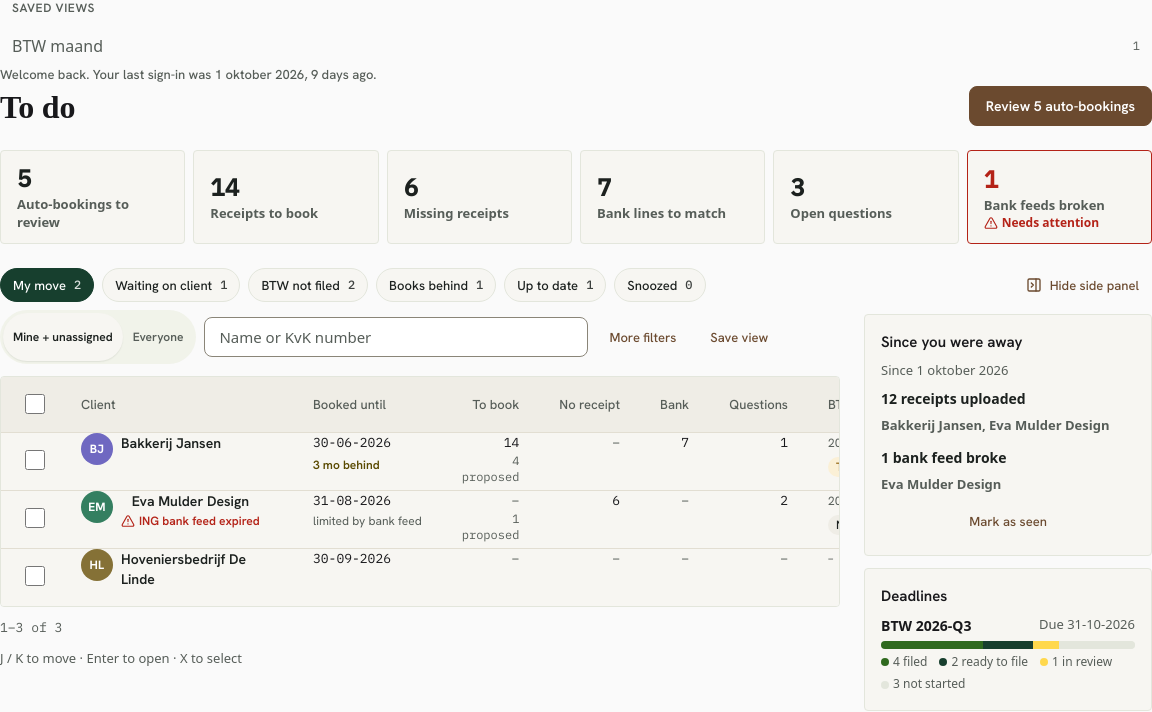
Test: bulk: Request missing receipts › previews each client with count, last chased and a reason in words, then sends
The width and height of the screenshot is (1152, 712).
Expected: the row with test id "firm-row-adm-1" is shown, [1,433,840,491]
Click the checkbox named "Select Bakkerij Jansen".
click(35, 460)  # box [25,436,45,484]
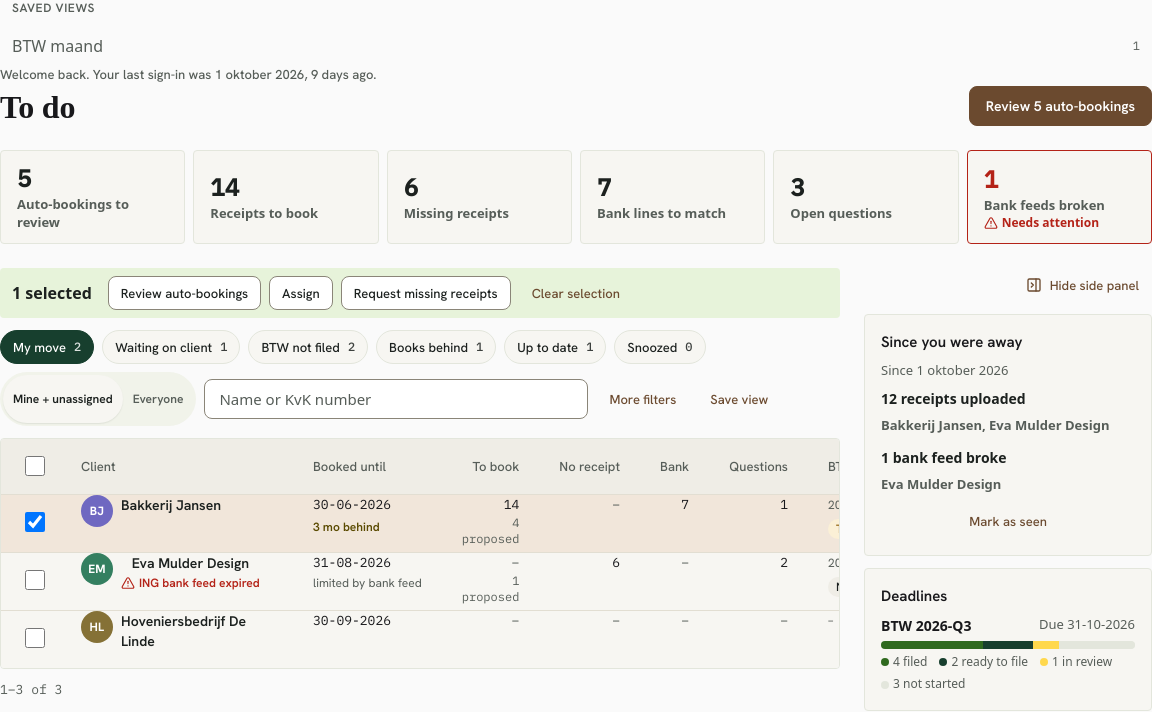
Click the checkbox named "Select Eva Mulder Design".
click(35, 580)  # box [25,556,45,604]
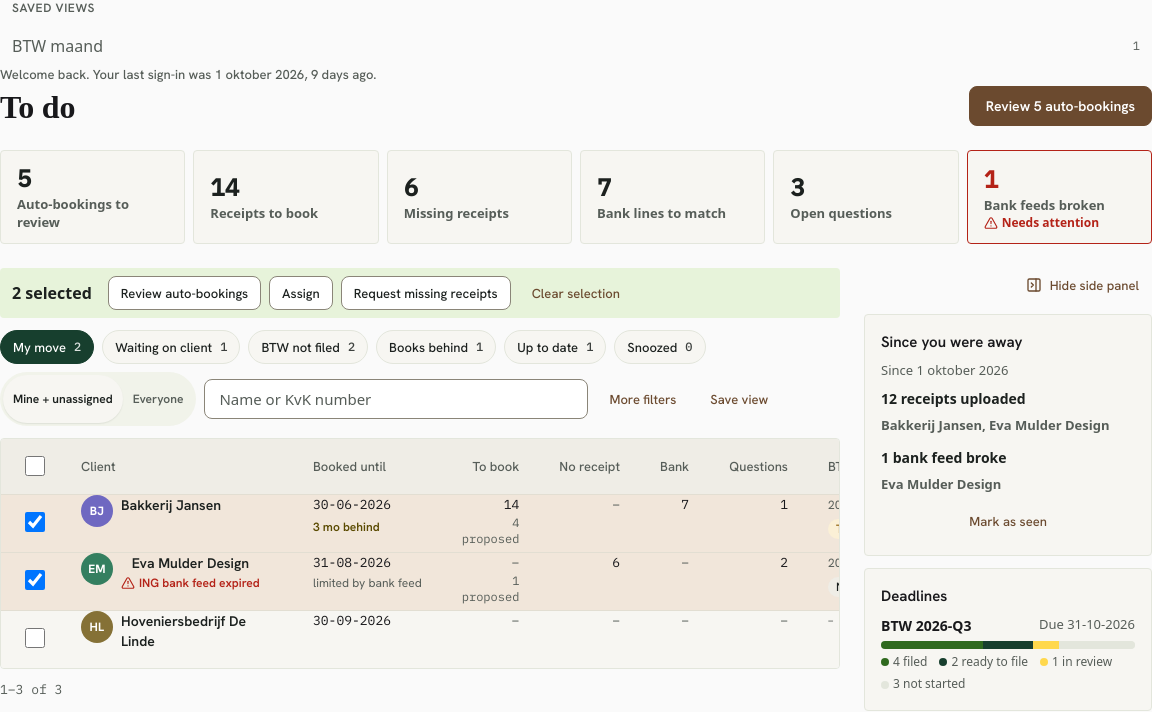
Click the checkbox named "Select Hoveniersbedrijf De Linde".
click(35, 638)  # box [25,614,45,662]
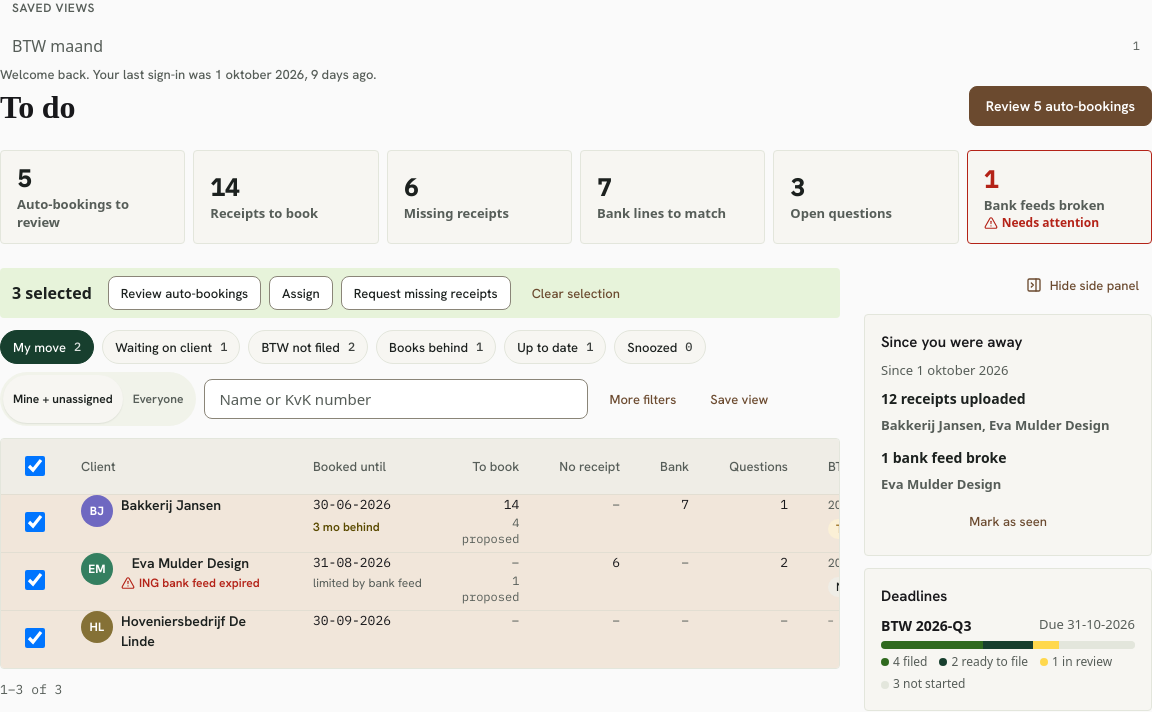
Click the button with test id "firm-bulk-chase".
click(426, 293)  # box [341,276,511,310]
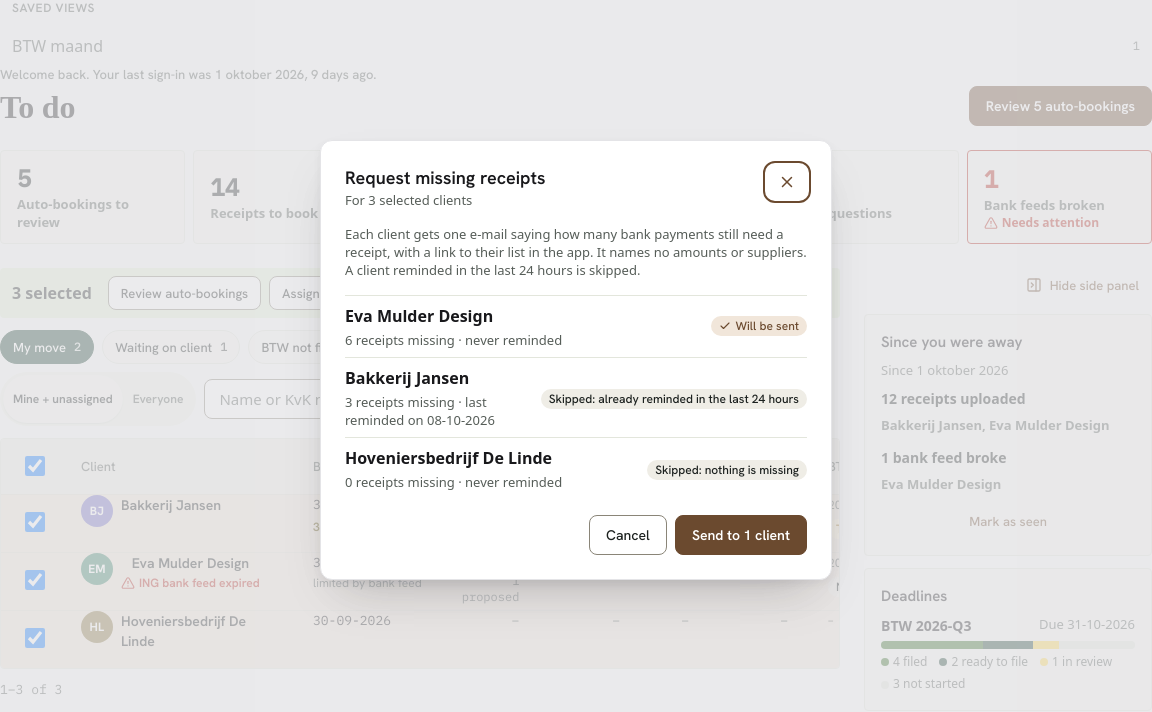
Expected: the dialog with test id "firm-chase-dialog" shows "For 3 selected clients", [345,191,472,209]
Expected: the dialog with test id "firm-chase-dialog" shows "names no amounts or suppliers", [345,225,807,279]
Expected: the list item with test id "firm-chase-item-adm-2" shows "6 receipts missing", [345,331,455,349]
Click the button with test id "firm-chase-send".
click(741, 535)  # box [675,515,807,555]
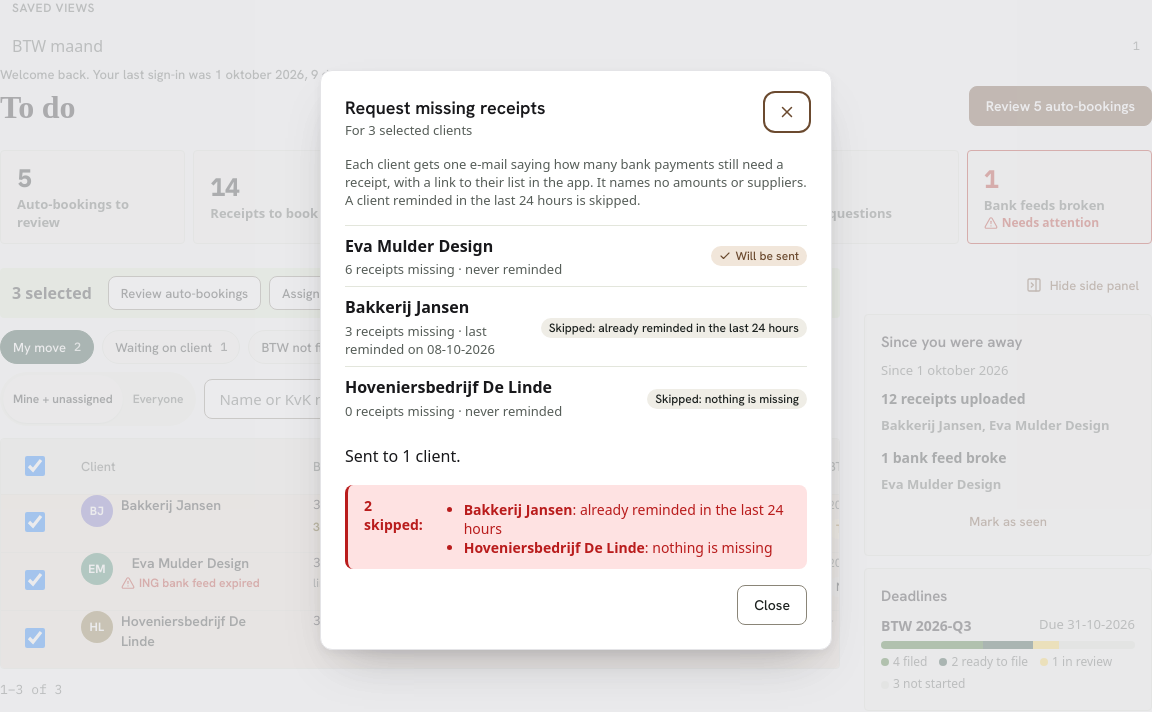
Expected: the message with test id "firm-chase-result" reads "Sent to 1 client.", [345,445,460,467]
Expected: the message with test id "firm-chase-skipped" shows "2 skipped:", [364,496,423,534]
Expected: the message with test id "firm-chase-skipped" shows "Bakkerij Jansen: already reminded in the last 24 hours", [345,485,807,570]
